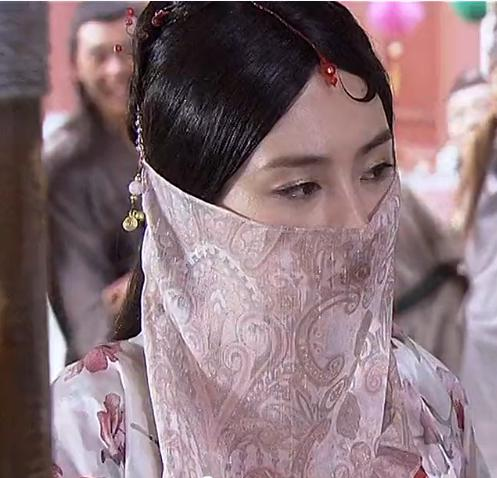NONE: (81, 34, 146, 115)
WRONG: (223, 131, 409, 340)
